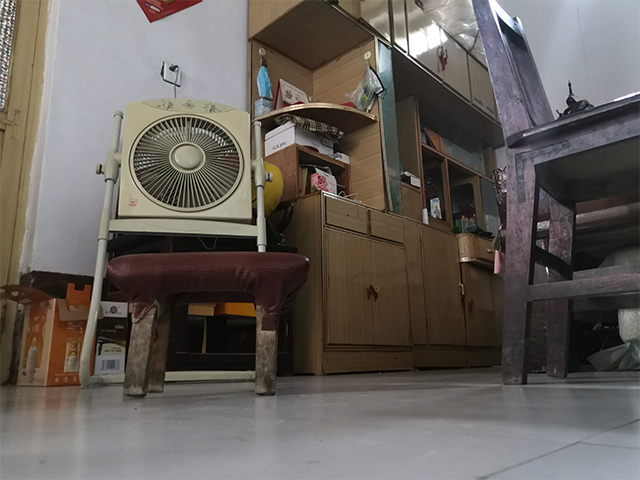cabinet: (280, 192, 498, 376)
stool: (470, 1, 640, 386), (105, 249, 313, 396)
